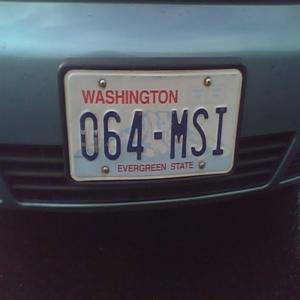Vehicle-registration-plate: (66, 71, 242, 183)
